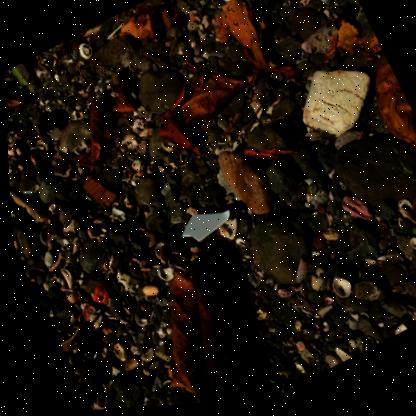Plastic: (177, 212, 226, 243), (102, 23, 122, 42), (77, 43, 91, 59)
Waste: (299, 74, 368, 142)
